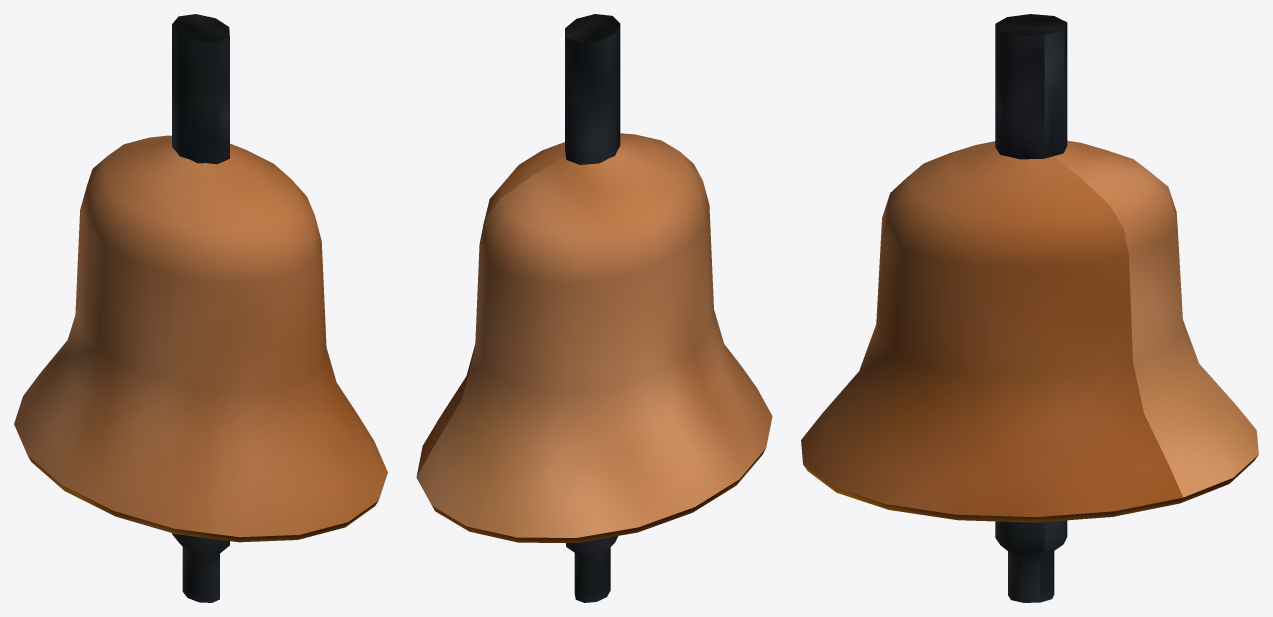
The model's file is Campana.obj.
3 views of the same model, side by side, from view 1: azimuth 30°, elevation 25°; view 2: azimuth 150°, elevation 25°; view 3: azimuth 270°, elevation 25° (orthographic).
Parts seen in each view (by area): view 1: Campana; view 2: Campana; view 3: Campana.
Boxes of the visible parts, x1=… form: Campana: x1=14, y1=14, x2=387, y2=602; Campana: x1=416, y1=14, x2=772, y2=602; Campana: x1=801, y1=14, x2=1258, y2=602.
Size of the model in its own units: 0.1475 by 0.2807 by 0.204.
Materials: 2 (2 with a texture image).
